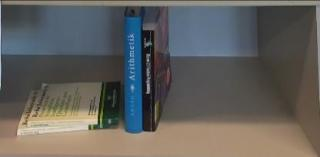book-spine: (123, 16, 142, 135), (141, 29, 156, 132), (17, 124, 112, 136), (27, 118, 120, 129)
